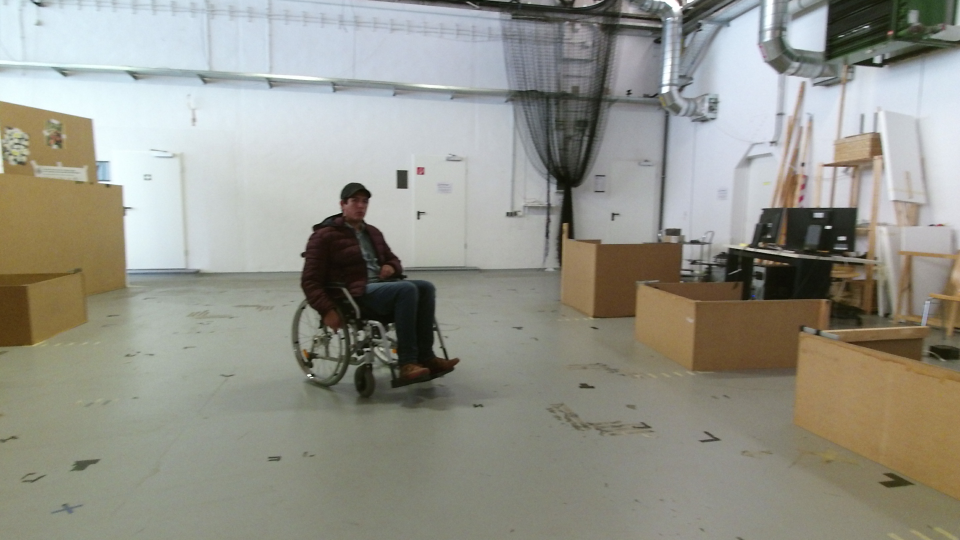wheelchair: (286, 175, 465, 404)
